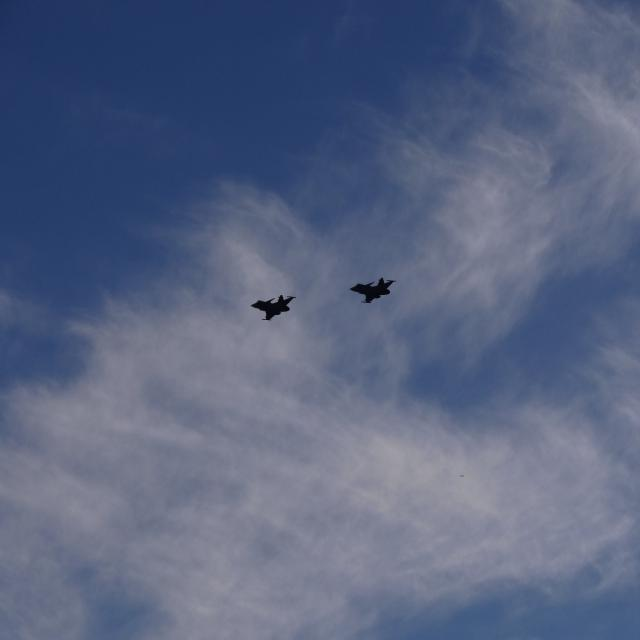MIL_Plane: (249, 294, 297, 320), (349, 277, 397, 303)
